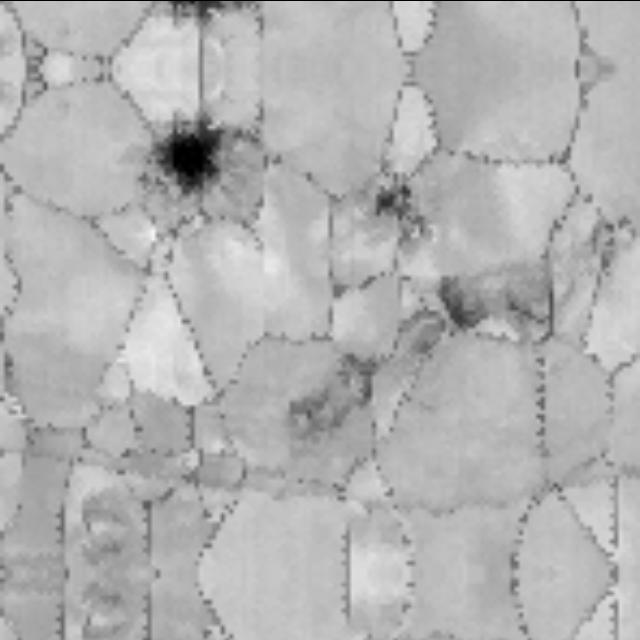good_void: (266, 329, 392, 466), (140, 92, 244, 207), (357, 164, 455, 266), (472, 250, 568, 348), (65, 479, 144, 573), (420, 263, 497, 352), (69, 575, 139, 640), (153, 0, 241, 34)
